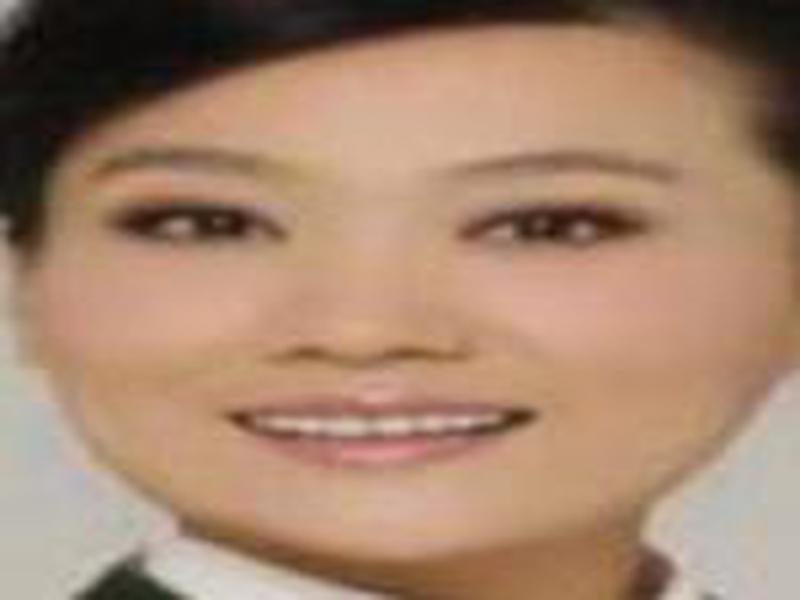without_mask: (28, 87, 785, 568)
